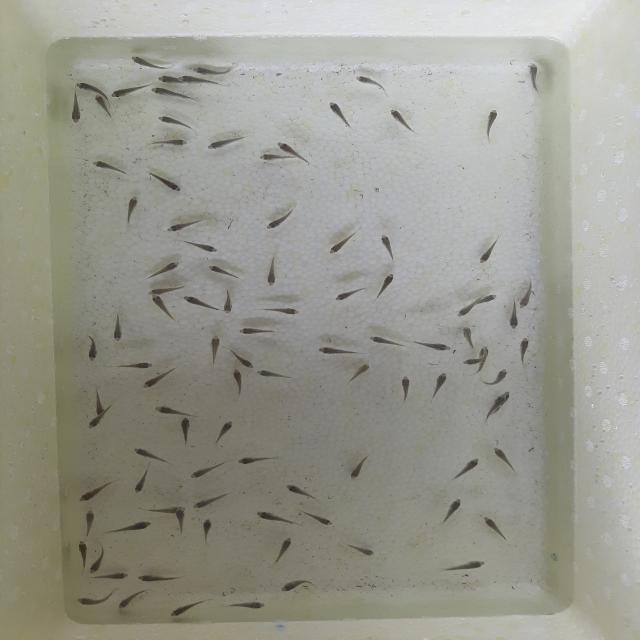fingerling: (260, 204, 302, 231), (322, 99, 356, 131), (352, 70, 392, 94), (211, 597, 267, 614), (164, 214, 213, 233), (326, 228, 361, 254), (386, 110, 417, 138), (154, 114, 198, 132), (151, 172, 187, 194), (374, 272, 402, 300), (278, 140, 316, 160), (146, 86, 193, 102), (444, 558, 491, 574), (165, 598, 202, 618), (425, 369, 448, 401), (149, 258, 182, 280), (182, 293, 215, 315), (78, 480, 111, 502), (413, 337, 454, 354), (301, 509, 339, 527), (478, 239, 502, 267), (267, 536, 295, 560), (134, 446, 169, 465), (113, 590, 143, 612), (107, 311, 128, 342), (494, 446, 517, 474), (190, 492, 230, 508), (125, 192, 144, 225), (207, 263, 240, 282), (203, 334, 223, 365), (188, 462, 222, 480), (205, 136, 243, 152), (253, 512, 296, 526), (314, 344, 354, 359), (112, 520, 152, 535), (482, 512, 505, 538), (88, 547, 110, 574), (178, 74, 220, 88), (456, 458, 484, 479), (64, 95, 84, 124), (517, 282, 539, 308), (180, 240, 224, 253), (526, 60, 545, 90), (146, 282, 186, 296), (267, 302, 302, 318), (133, 467, 153, 495), (282, 484, 322, 498), (150, 294, 171, 320), (126, 54, 162, 69), (476, 345, 494, 375), (253, 367, 289, 382), (137, 572, 181, 584), (278, 579, 313, 594), (139, 371, 168, 389), (378, 232, 398, 258), (232, 351, 258, 371), (445, 495, 464, 522), (459, 322, 477, 350), (484, 393, 504, 418), (263, 262, 282, 288), (95, 96, 117, 118), (112, 84, 144, 99), (350, 457, 370, 481), (329, 288, 363, 302), (84, 509, 101, 537), (90, 161, 126, 174), (192, 66, 238, 76), (368, 334, 400, 348), (341, 544, 378, 556), (489, 367, 510, 388), (118, 359, 158, 370), (149, 138, 192, 148), (507, 305, 522, 333), (90, 384, 104, 414), (76, 541, 90, 570), (84, 336, 100, 361), (237, 327, 277, 337), (95, 571, 133, 581), (73, 83, 107, 94), (75, 595, 106, 607), (216, 420, 234, 440), (236, 455, 276, 464), (232, 368, 245, 395), (475, 292, 504, 304), (519, 336, 532, 362), (154, 405, 187, 415), (178, 417, 190, 444), (350, 362, 370, 378), (222, 289, 234, 315), (487, 107, 497, 138), (400, 375, 411, 403), (454, 303, 474, 318), (257, 153, 289, 162), (201, 518, 213, 542), (149, 506, 173, 515), (174, 506, 182, 532), (88, 416, 103, 429), (152, 75, 176, 83), (464, 358, 478, 366)
